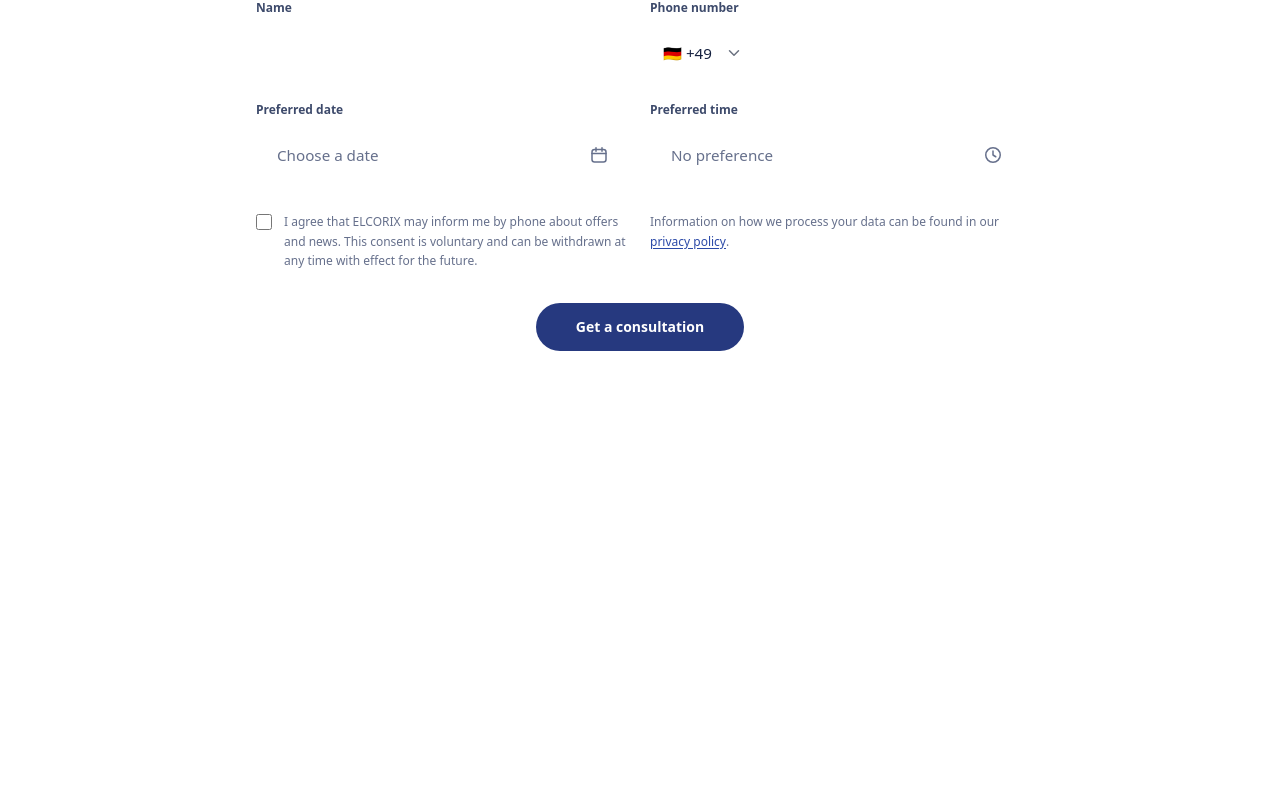
DatePicker (desktop calendar) › is driven entirely from the keyboard
Click the button named "preferred date" at (328, 155), box [256,126,630,184]
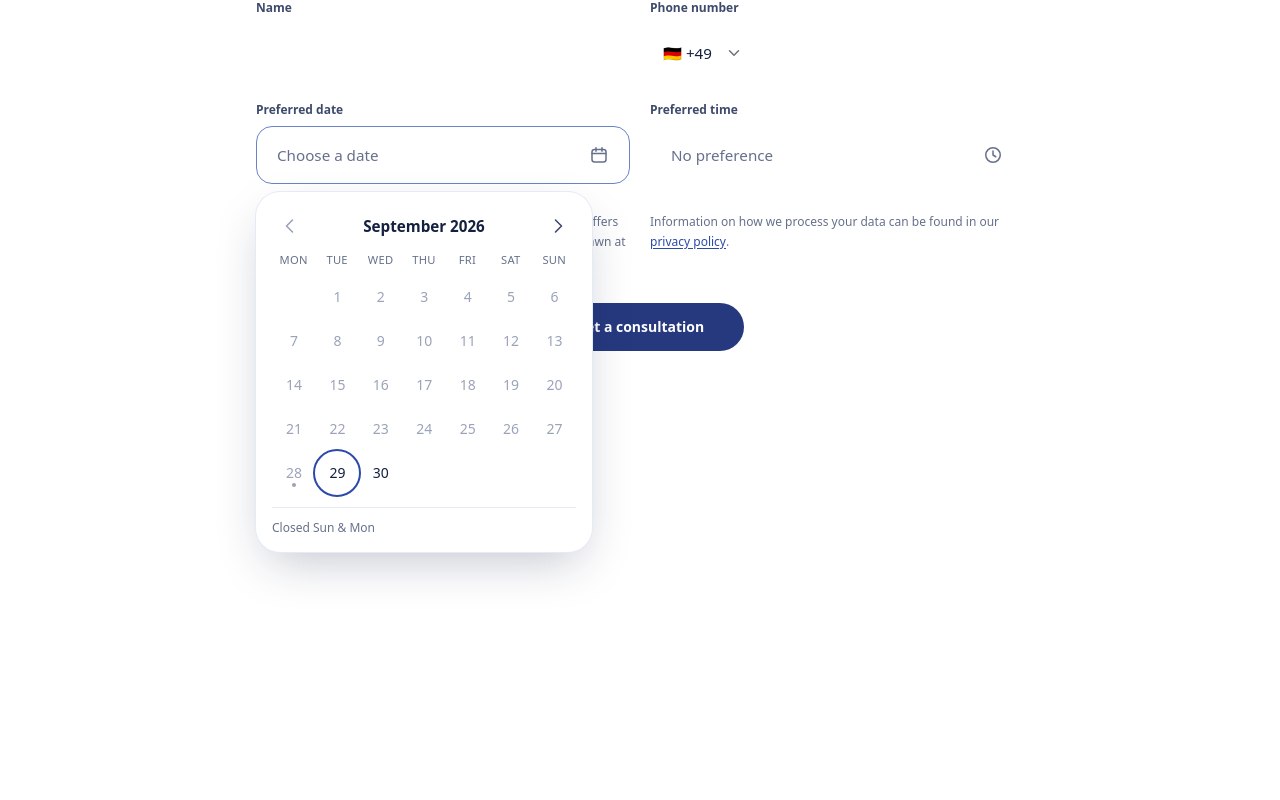
Tue 29 Sep → +7 → Tue 6 Oct → +1 → Wed 7 Oct.
Press Arrowdown Arrowright
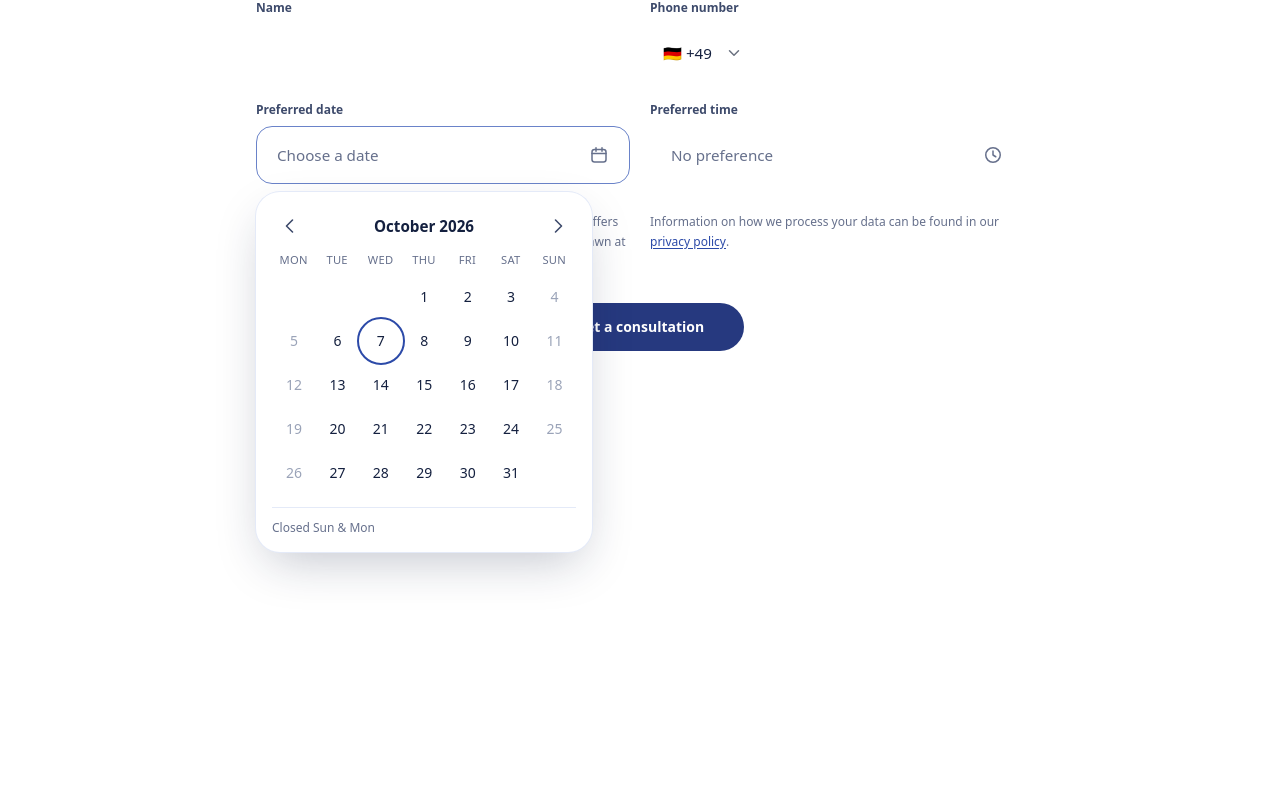
Now the text "October 2026" is shown, box [374,215,474,237]
Press Enter
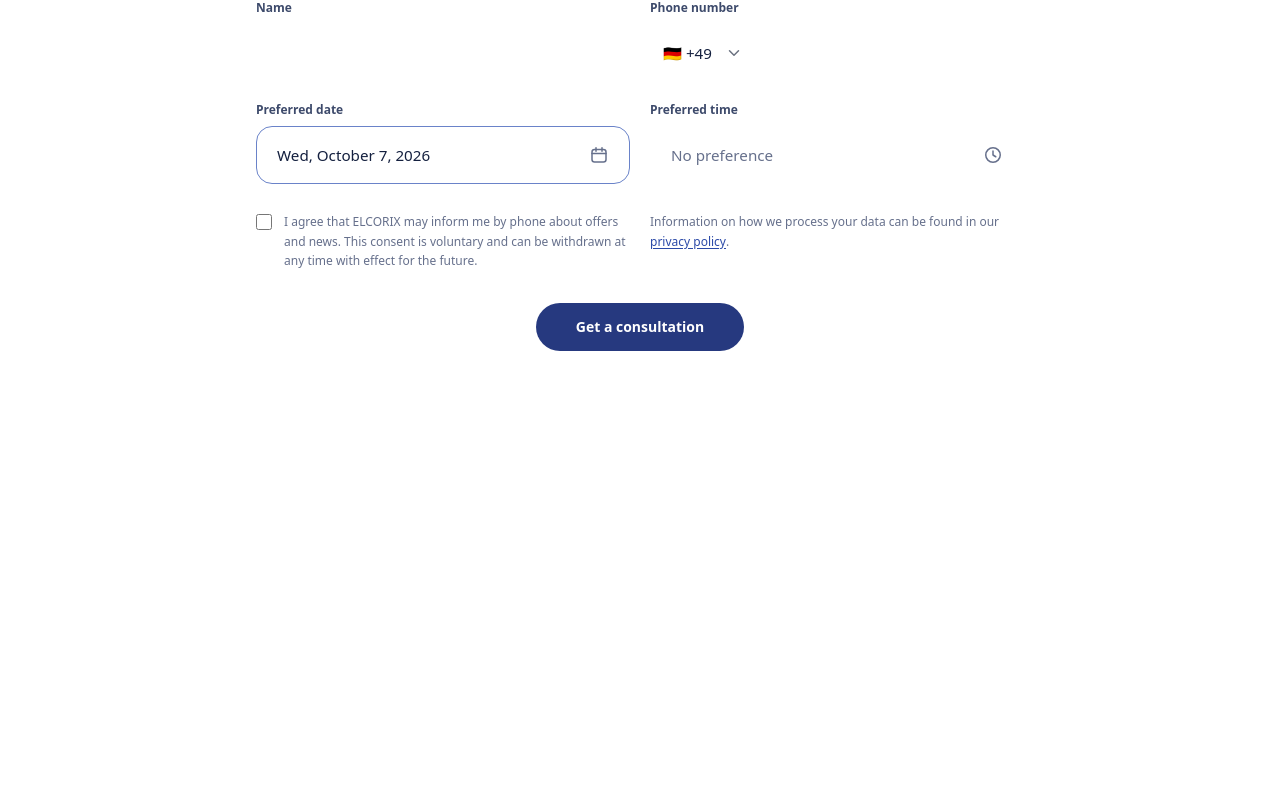
Now the button named "preferred date" reads "Wed, October 7, 2026", box [256,126,630,184]
Press Arrowdown
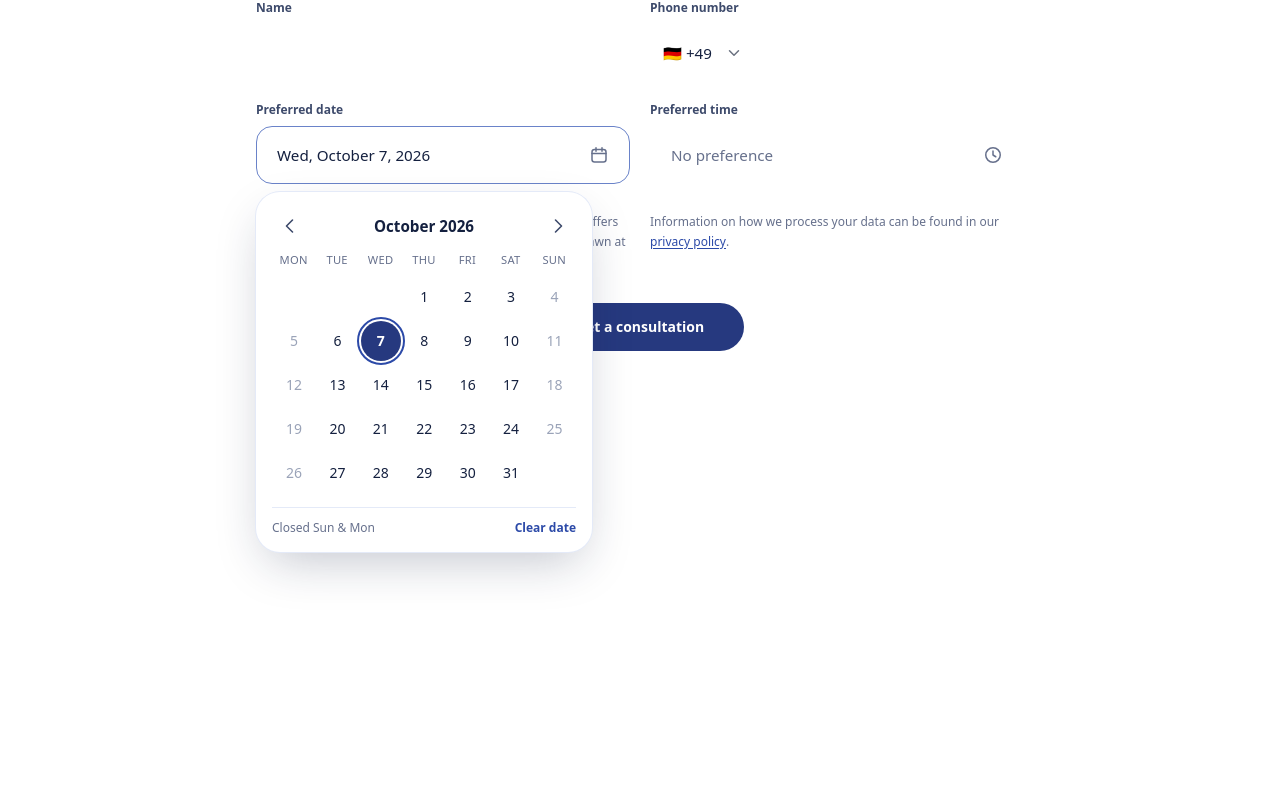
Press Escape
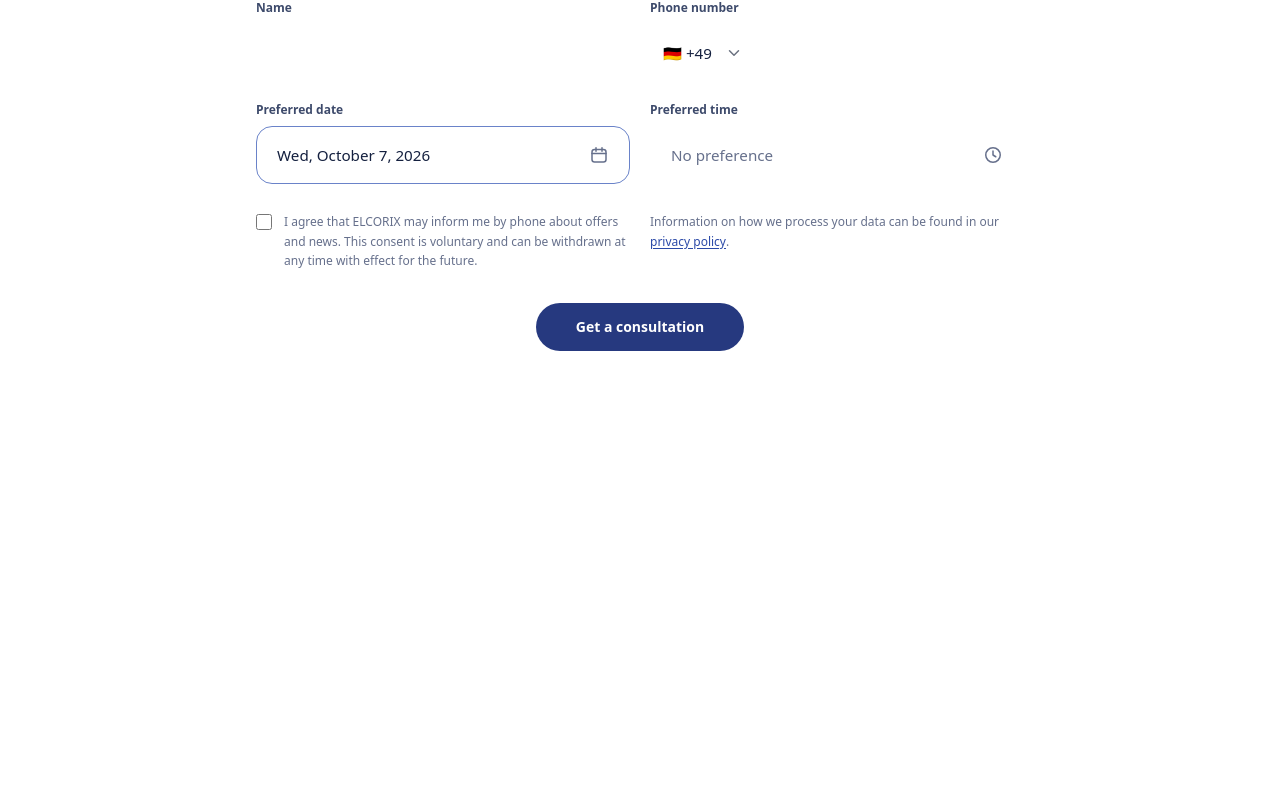
Now the dialog is gone
